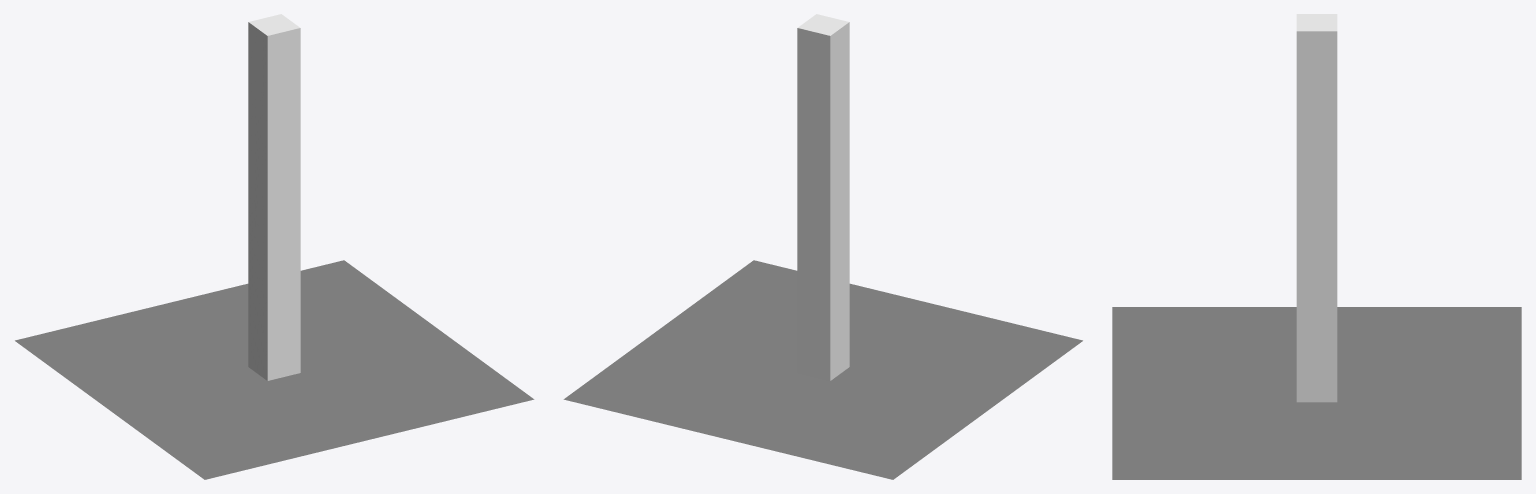
The model's file is I_Floor_Pillar.fbx.
3 views of the same model, side by side, from view 1: azimuth 30°, elevation 25°; view 2: azimuth 150°, elevation 25°; view 3: azimuth 270°, elevation 25° (orthographic). The views are drawn at different scales.
Visible parts, largest first — view 1: Floor_Pillar; view 2: Floor_Pillar; view 3: Floor_Pillar.
Part boxes in pixels (left/top/right/bottom): Floor_Pillar: left=15, top=14, right=534, bottom=479; Floor_Pillar: left=563, top=14, right=1082, bottom=479; Floor_Pillar: left=1112, top=14, right=1521, bottom=479.
Bounding box in the file's own units: 200 × 200 × 200.
